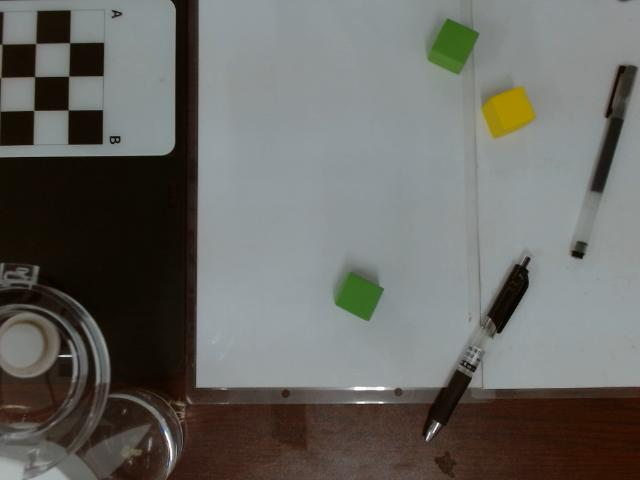PEN: (413, 252, 542, 446), (566, 62, 639, 259)
